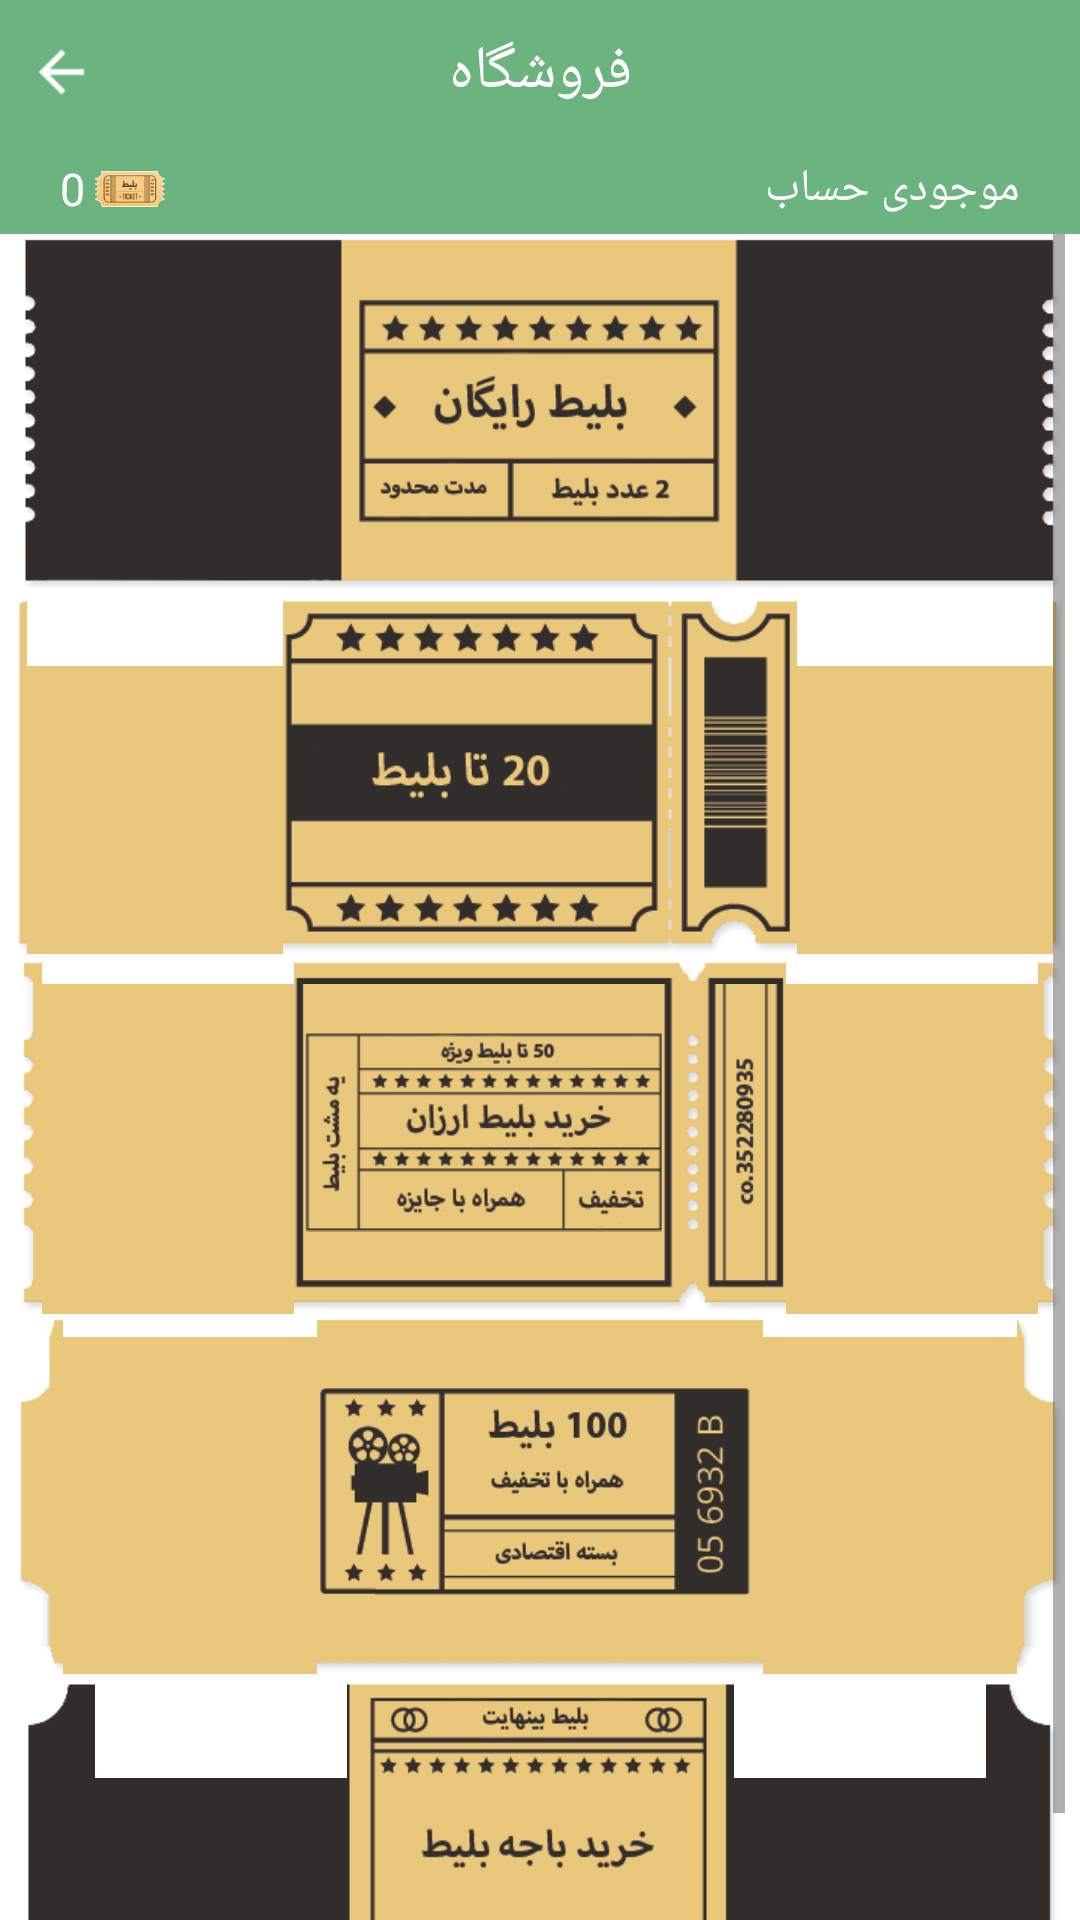

Where icons sit on this 1080px×1920px app screen, as (x1, y1, x2, y2):
back unpresed: (39, 49, 85, 95)
